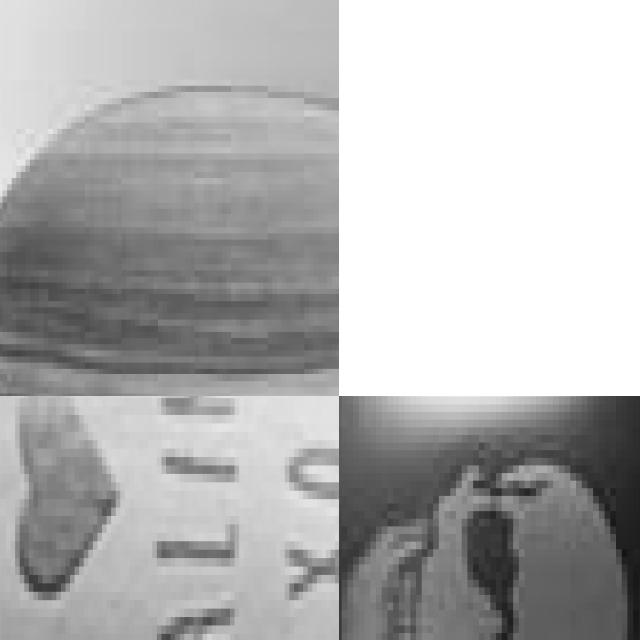spoons: (0, 0, 339, 396), (0, 396, 339, 640), (339, 396, 640, 640)
